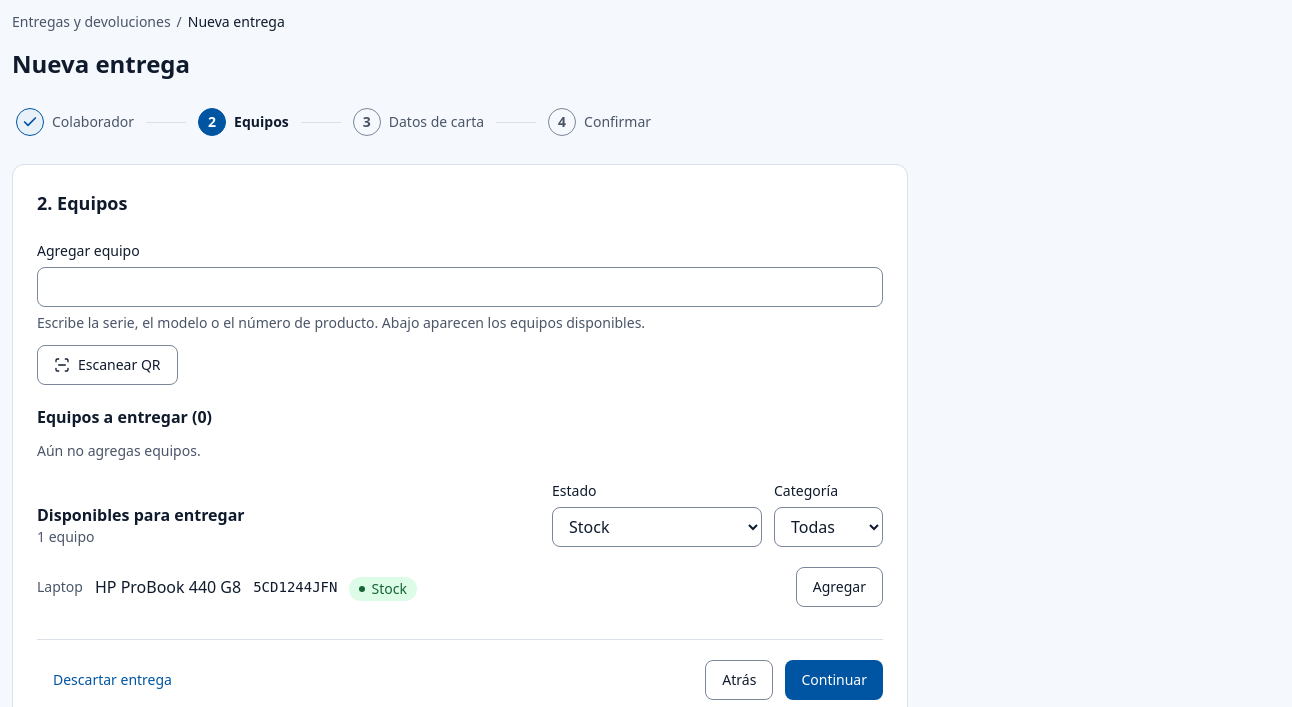
P-21 · Asistente de entrega › en el paso 2 lista los disponibles sin escribir y explica por qué un equipo no se entrega
Click the button with aria-label "Agregar 5CD1244JFN" at (839, 587), box [796,567,883,607]
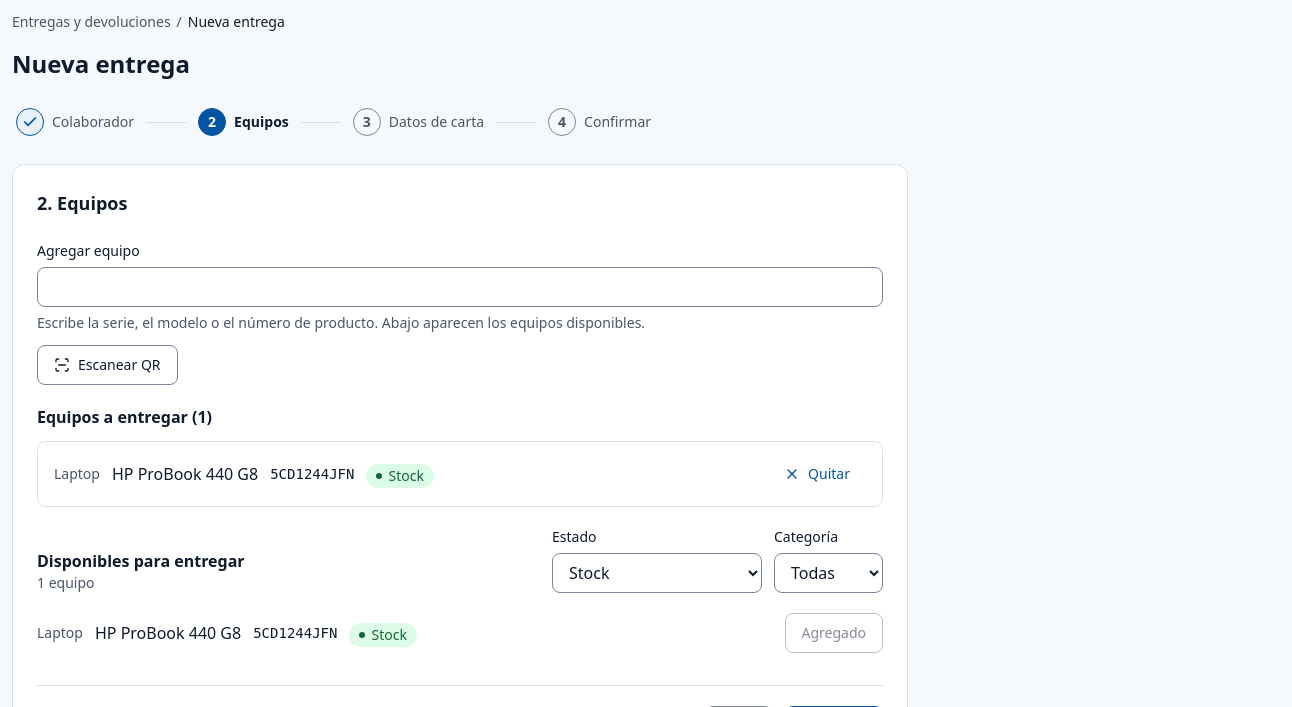
Result: the heading "Equipos a entregar (1)" is shown at [37,406,212,428]
Type "8cc0" into the search field labelled "Agregar equipo" at (460, 287), box [37,267,883,307]
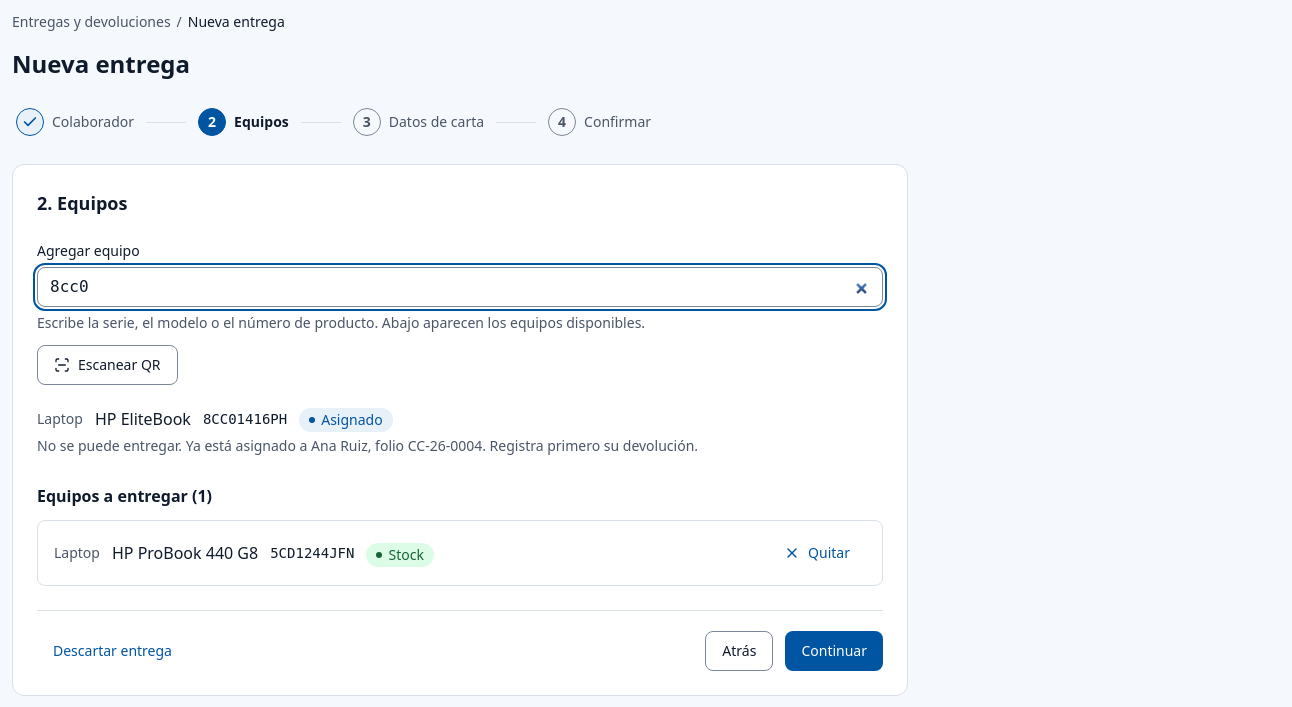
Result: the list named "Equipos encontrados" shows "No se puede entregar. Ya está asignado a Ana Ruiz" at [37,408,698,455]
Result: the button "Agregado" is gone
Result: the heading "Disponibles para entregar" is gone
